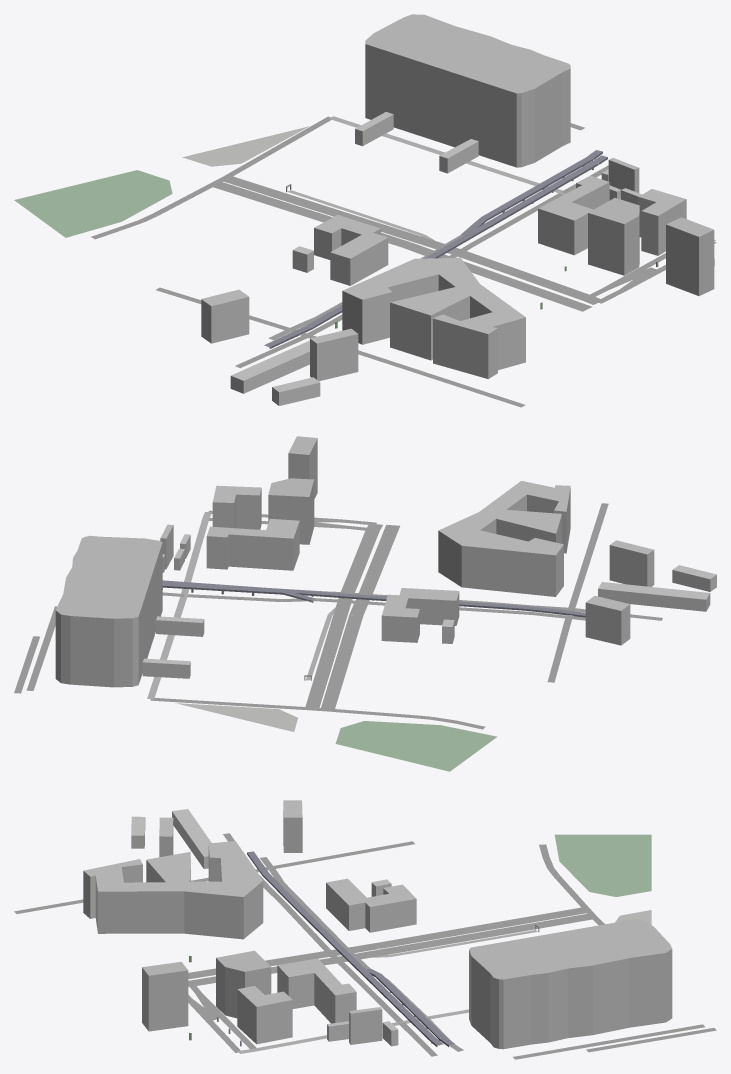
3 renders of one model, top to bottom at view 1: azimuth 30°, elevation 25°; view 2: azimuth 150°, elevation 25°; view 3: azimuth 270°, elevation 25°, orthographic. The views are drawn at different scales.
Bounding box in the file's own units: 554 × 79.22 × 678.
